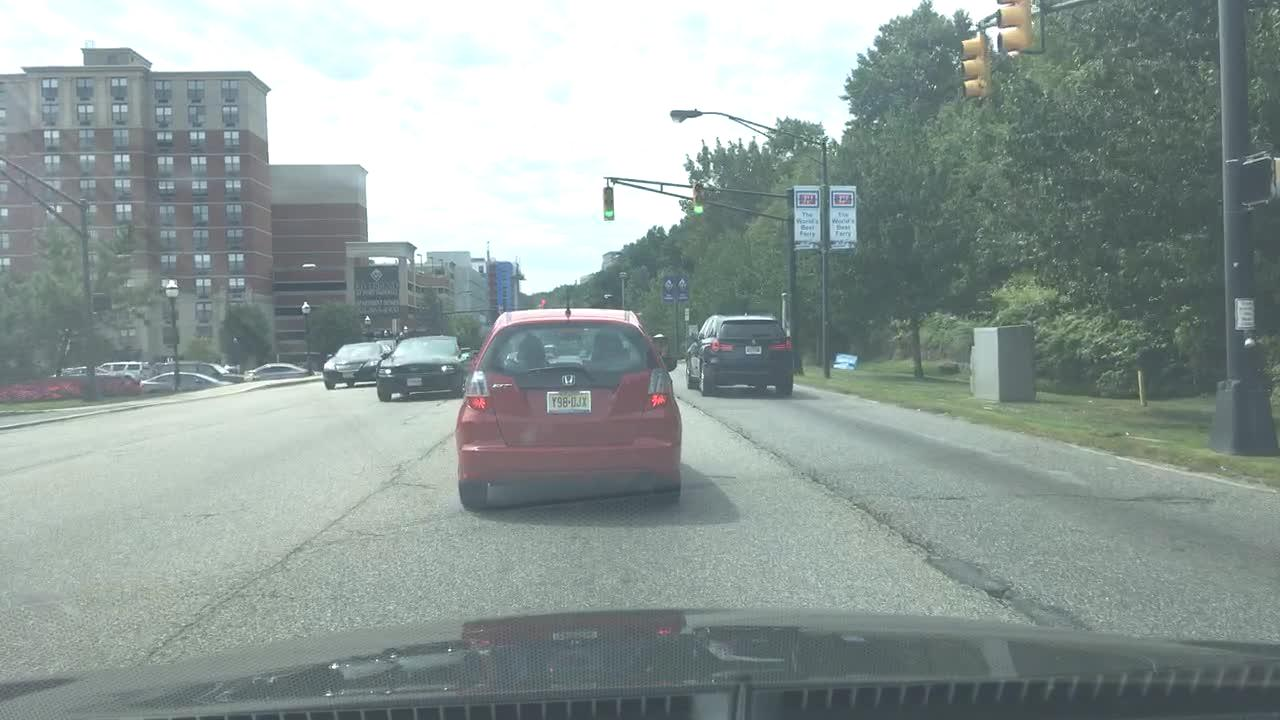Honda: (559, 370, 582, 392)
bmw: (748, 336, 760, 346)
